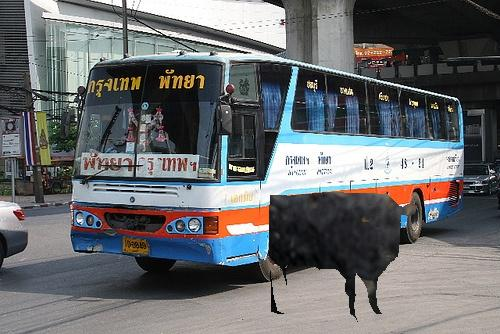tampered: (269, 193, 417, 323)
